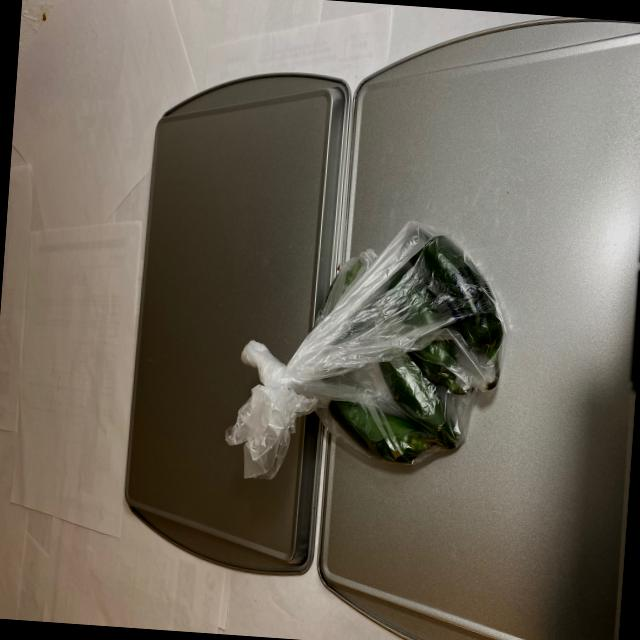chilli: (322, 219, 516, 471)
